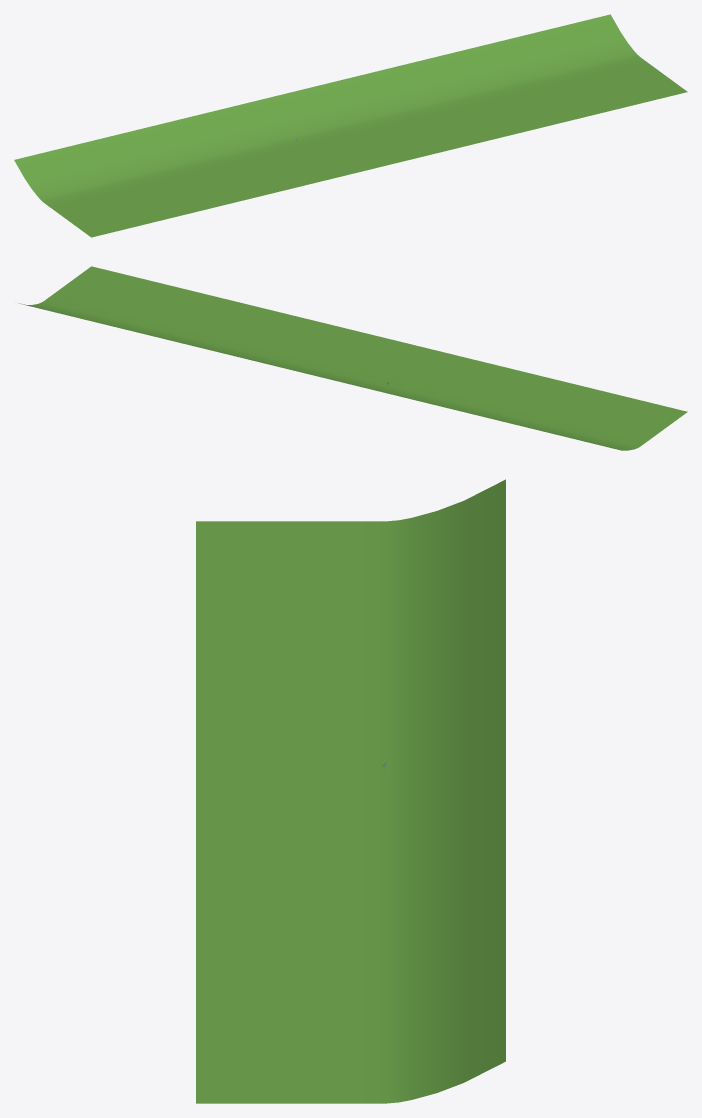
File: Reis Desk Chair.obj
3 views of the same model, one above another, from view 1: azimuth 30°, elevation 25°; view 2: azimuth 150°, elevation 25°; view 3: azimuth 270°, elevation 25° (orthographic). The views are drawn at different scales.
Parts seen in each view (by area): view 1: Plane001; view 2: Plane001; view 3: Plane001.
Boxes of the visible parts, <box> form: Plane001: <box>14,14,687,237</box>; Plane001: <box>18,266,687,450</box>; Plane001: <box>196,479,505,1103</box>.
Size of the model in its own units: 9368 by 315 by 2106.
